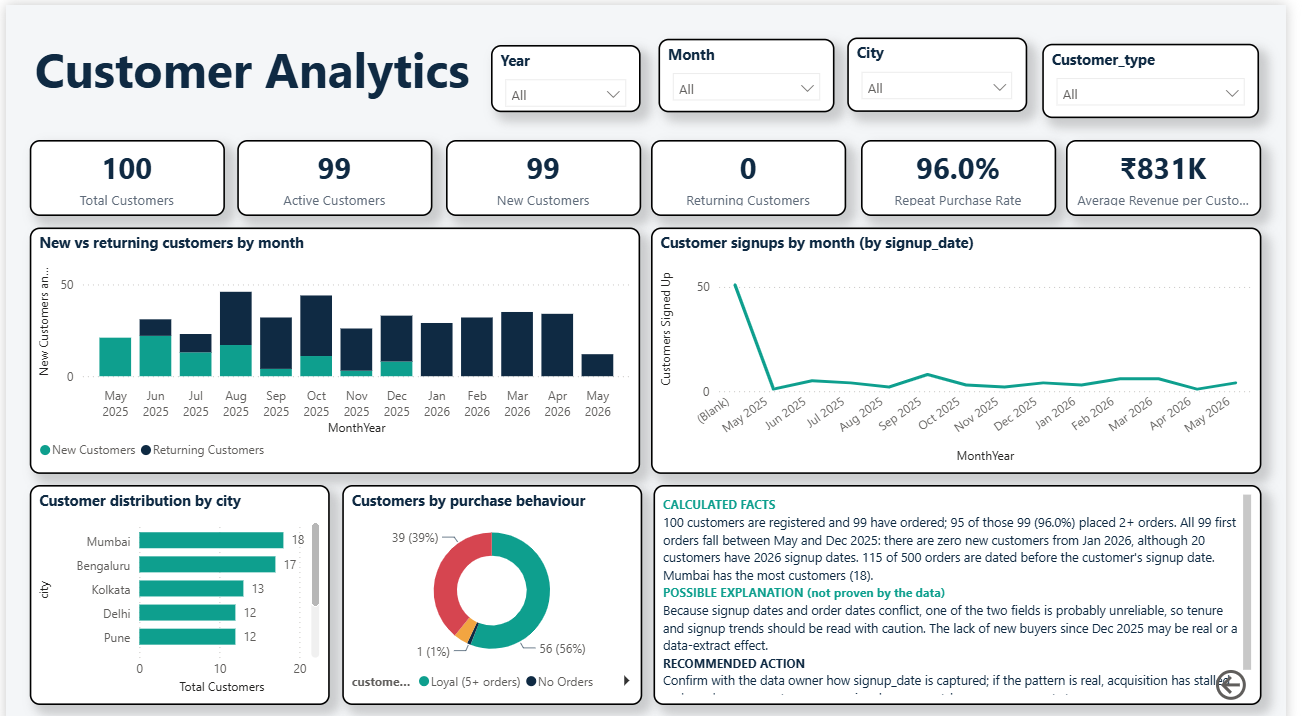

This screenshot's page, from the dashboard's own definition file:
{"tool":"powerbi","page":{"name":"3. Customer Analytics","canvas":[1280,720],"ordinal":2},"visuals":[{"type":"textbox","box":[24.1,8.4,1255.9,98.9],"z":0},{"type":"slicer","title":"Year","fields":{"Values":["Date.Year"]},"box":[485,39.8,149.6,67.6],"z":1000},{"type":"slicer","title":"Month","fields":{"Values":["Date.MonthName"]},"box":[652.7,33.8,176.1,73.6],"z":2000},{"type":"slicer","title":"City","fields":{"Values":["Customers.city"]},"box":[840.9,32.6,179.8,74.8],"z":3000},{"type":"card","fields":{"Values":["_Measures.Total Customers"]},"box":[24.1,135.1,195,76],"z":4000},{"type":"card","fields":{"Values":["_Measures.Active Customers"]},"box":[231.6,135.1,195,76],"z":5000},{"type":"card","fields":{"Values":["_Measures.New Customers"]},"box":[440.4,135.1,195,76],"z":6000},{"type":"card","fields":{"Values":["_Measures.Returning Customers"]},"box":[645.4,135.1,195,76],"z":7000},{"type":"card","fields":{"Values":["_Measures.Repeat Purchase Rate"]},"box":[855.4,135.1,195,76],"z":8000},{"type":"card","fields":{"Values":["_Measures.Average Revenue per Customer"]},"box":[1060.5,135.1,195,76],"z":9000},{"type":"columnChart","title":"New vs returning customers by month","fields":{"Category":["Date.MonthYear"],"Y":["_Measures.New Customers","_Measures.Returning Customers"]},"box":[24.1,222,610.5,246.1],"z":10000},{"type":"lineChart","title":"Customer signups by month (by signup_date)","fields":{"Category":["Date.MonthYear"],"Y":["_Measures.Customers Signed Up"]},"box":[645.4,222,610.5,246.1],"z":11000},{"type":"clusteredBarChart","title":"Customer distribution by city","fields":{"Category":["Customers.city"],"Y":["_Measures.Total Customers"]},"box":[24,480,300,220],"z":12000},{"type":"donutChart","title":"Customers by purchase behaviour","fields":{"Category":["Customers.customer_type"],"Y":["_Measures.Total Customers"]},"box":[336,480,300,220],"z":13000},{"type":"textbox","box":[648,480,608,220],"z":14000},{"type":"slicer","title":"Customer_type","fields":{"Values":["Customers.customer_type"]},"box":[1036.3,38.6,217.2,74.8],"z":16000},{"type":"actionButton","box":[1205.2,659.9,48.3,39.8],"z":16001}]}

Visuals, with their boxes in screenshot pixels (x1, y1, x2, y2), scaled from the page's 1280x720 canvas onto the 1302x716 screenshot:
textbox: select_region(25, 8, 1301, 107)
"Year" slicer: select_region(493, 40, 646, 107)
"Month" slicer: select_region(664, 34, 843, 107)
"City" slicer: select_region(855, 32, 1038, 107)
card - _Measures.Total Customers: select_region(25, 134, 223, 210)
card - _Measures.Active Customers: select_region(236, 134, 434, 210)
card - _Measures.New Customers: select_region(448, 134, 646, 210)
card - _Measures.Returning Customers: select_region(656, 134, 855, 210)
card - _Measures.Repeat Purchase Rate: select_region(870, 134, 1068, 210)
card - _Measures.Average Revenue per Customer: select_region(1079, 134, 1277, 210)
"New vs returning customers by month" columnChart: select_region(25, 221, 646, 465)
"Customer signups by month (by signup_date)" lineChart: select_region(656, 221, 1277, 465)
"Customer distribution by city" clusteredBarChart: select_region(24, 477, 330, 696)
"Customers by purchase behaviour" donutChart: select_region(342, 477, 647, 696)
textbox: select_region(659, 477, 1278, 696)
"Customer_type" slicer: select_region(1054, 38, 1275, 113)
actionButton: select_region(1226, 656, 1275, 696)
